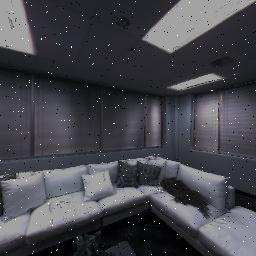sofa: (0, 143, 256, 256)
